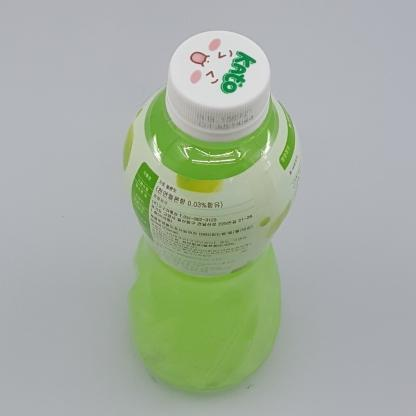-----------: (122, 30, 301, 392)
